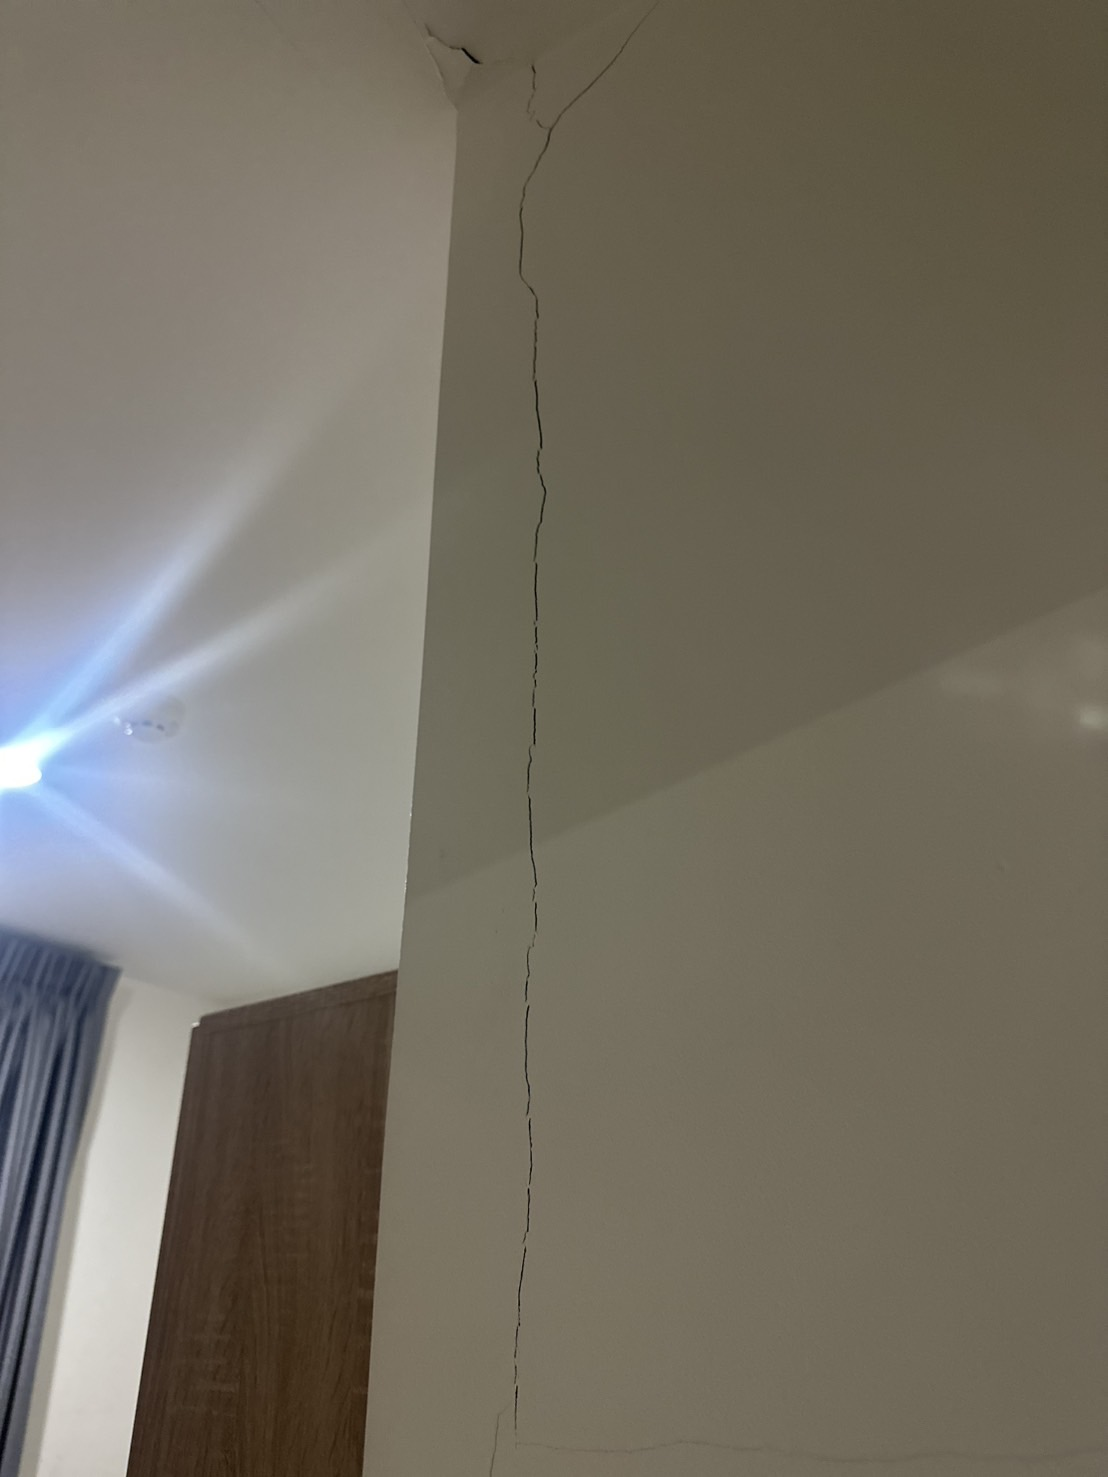Low: (402, 16, 739, 1477)
